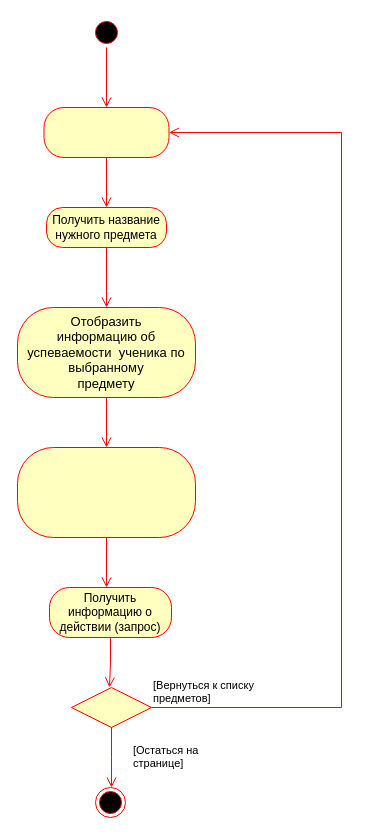
This 369x835 diagram has some shape labels left out. The shapes that lost their labels are listed below. From the top down, each one's box as (x1, y1, x2, y2) in pixels, then its label:
(43, 106, 169, 158): Отобразить перечень предметов
(16, 446, 196, 538): Отобразить информацию о посещаемости ученика по выбранному предмету
